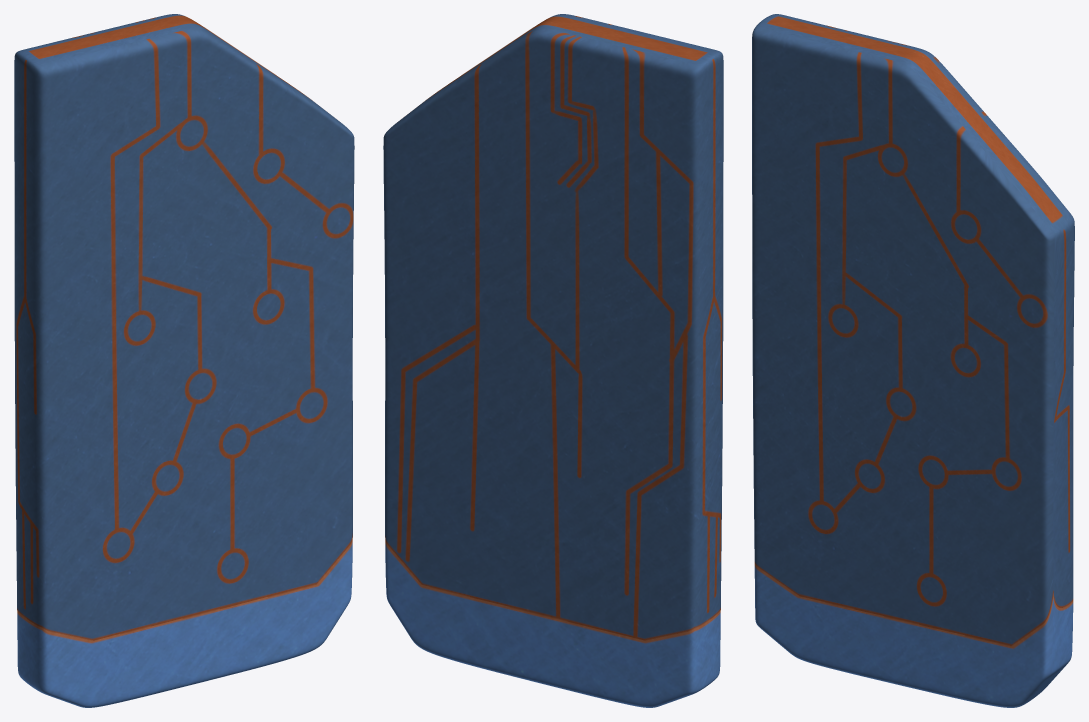
Rendered from Keycard.fbx.
The picture shows the model from 3 angles, left to right: view 1: azimuth 30°, elevation 25°; view 2: azimuth 150°, elevation 25°; view 3: azimuth 330°, elevation 25°; orthographic projection. The views are drawn at different scales.
Visible parts, largest first — view 1: Keycard; view 2: Keycard; view 3: Keycard.
Part boxes in pixels (box(x1,y1,x2,y2)): Keycard: box(14, 14, 354, 707); Keycard: box(383, 14, 723, 707); Keycard: box(752, 14, 1074, 707).
Size of the model in its own units: 0.352 by 0.6924 by 0.0556.
1 material, 1 textured.
